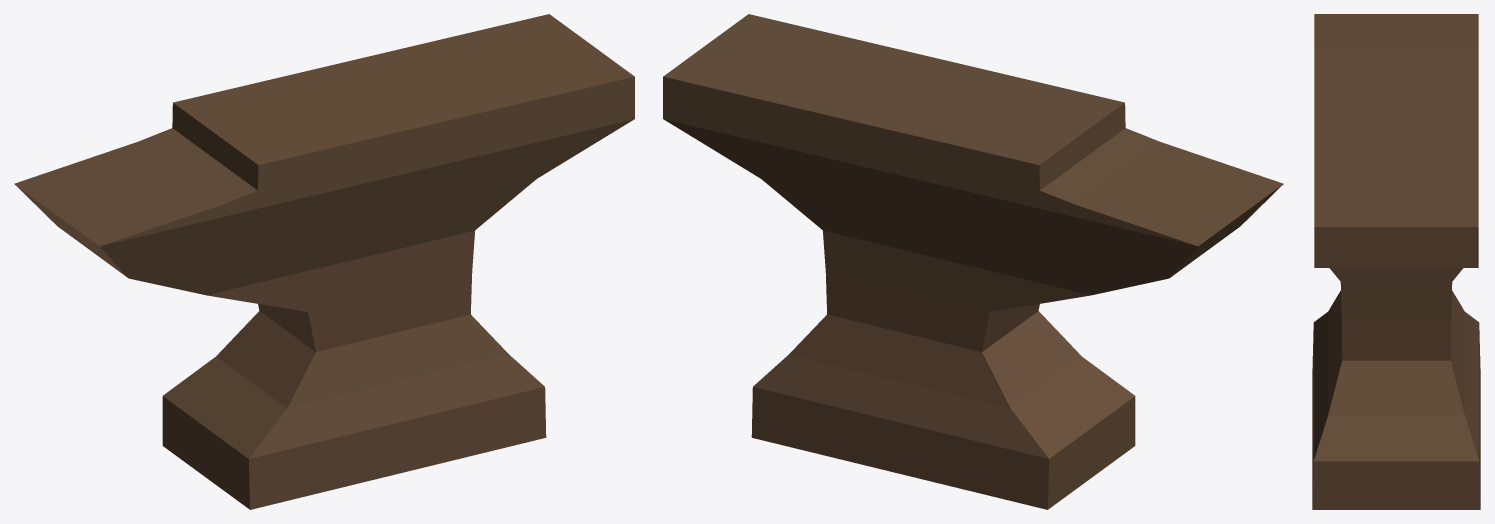
File: Anvil_1_Brown.fbx
The picture shows the model from 3 angles, left to right: view 1: azimuth 30°, elevation 25°; view 2: azimuth 150°, elevation 25°; view 3: azimuth 270°, elevation 25°; orthographic projection. The views are drawn at different scales.
Visible parts, largest first — view 1: Anvil_1_Brown; view 2: Anvil_1_Brown; view 3: Anvil_1_Brown.
Part boxes in pixels (bbox=[...]): Anvil_1_Brown: bbox=[14, 14, 634, 509]; Anvil_1_Brown: bbox=[663, 14, 1283, 509]; Anvil_1_Brown: bbox=[1312, 14, 1480, 509].
Size of the model in its own units: 104 by 63.55 by 29.52.
